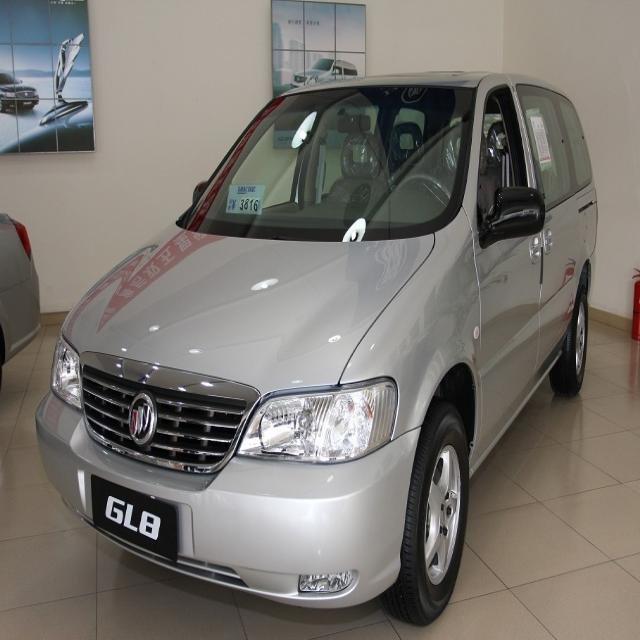front_bumper: (34, 386, 423, 610)
front_glass: (185, 80, 478, 238)
front_left_side_door: (469, 70, 545, 470)
front_left_side_light: (236, 374, 408, 464)
front_left_side_mirror: (486, 184, 546, 245)
front_right_side_light: (49, 332, 85, 409)
wheel: (390, 414, 470, 622), (552, 282, 589, 391)
